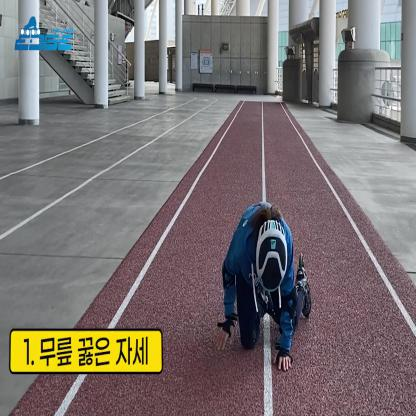Fall_Down: (215, 205, 313, 374)
